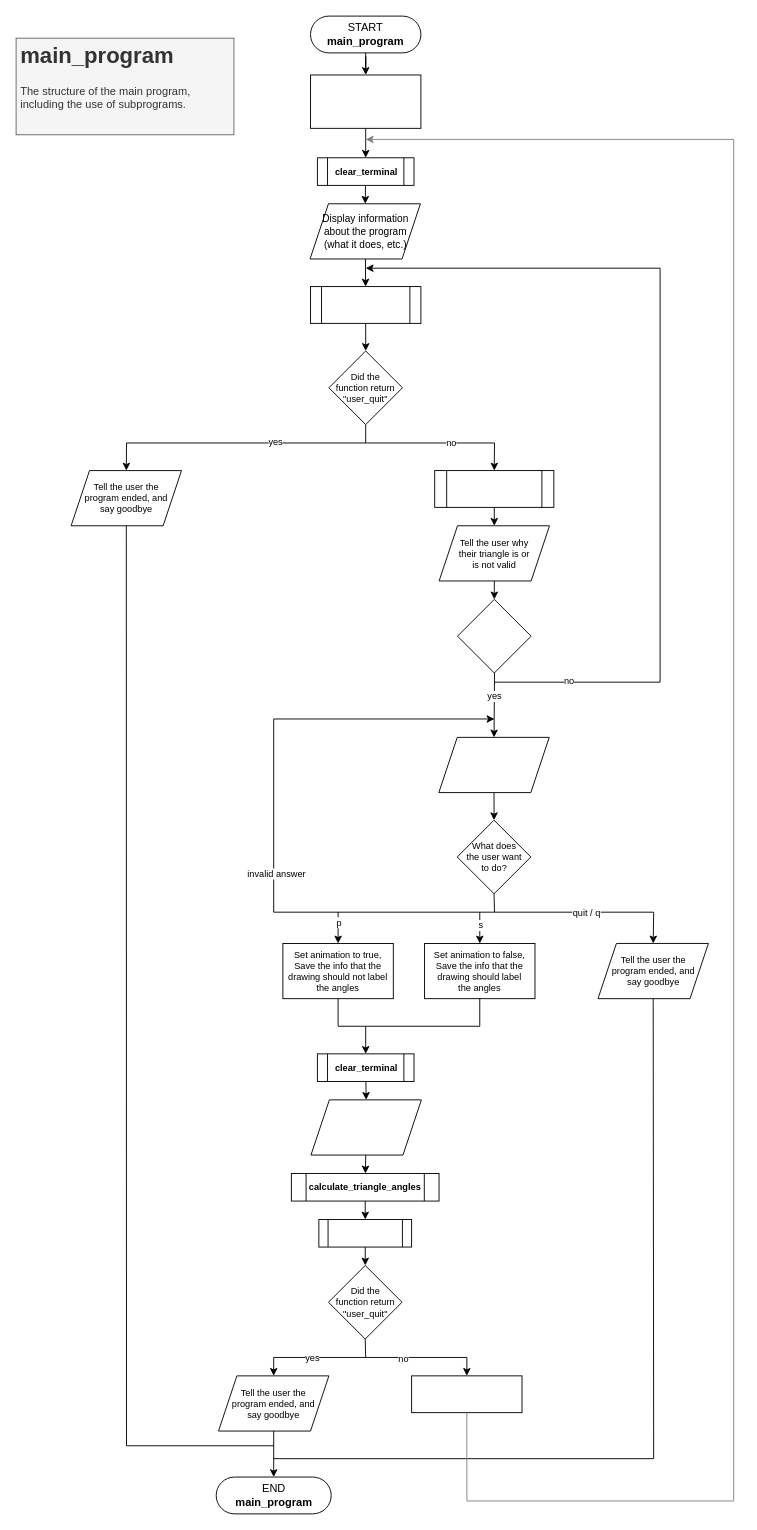
This 757x1530 diagram has some shape labels left out. Here are the shapes that lost their labels. From the top down, the centre of each, then its label:
At (365,101): "Import needed libraries and initialise variables".
At (365,304): "get_triangle_sides".
At (494,488): "check_triangle_valid".
At (494,635): "Is the triangle valid?".
At (493,764): "Ask the user if they want to run in Primary or Secondary mode, or quit".
At (365,1127): "Display the banner of the mode in stylised and coloured block letters".
At (365,1233): "draw_triangle".
At (466,1394): "Wait for 0.75 seconds".
